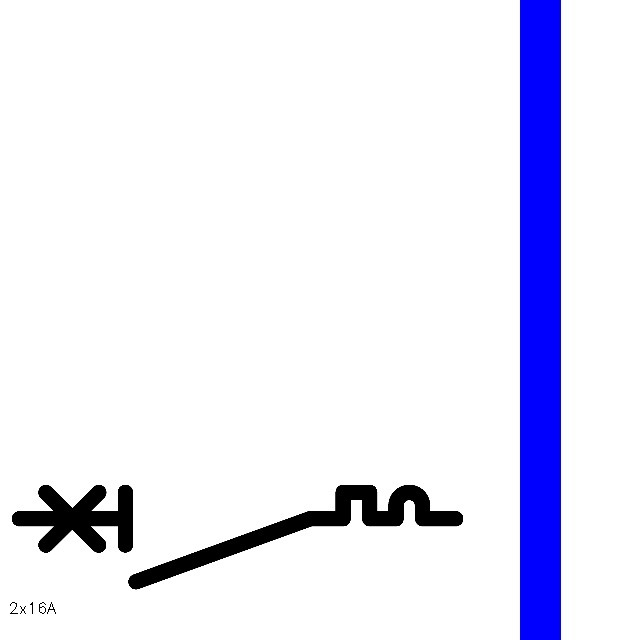interruptor_termomagnetico: (8, 481, 467, 593)
